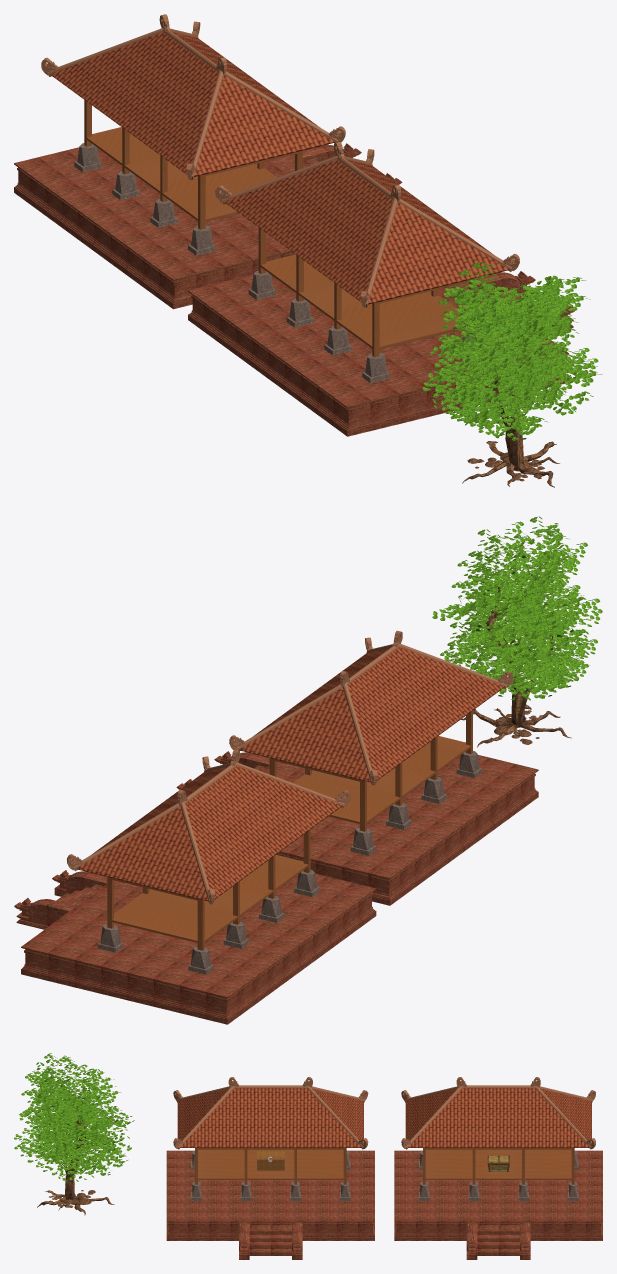
The model's file is seat1.glb.
3 renders of one model, top to bottom at view 1: azimuth 30°, elevation 25°; view 2: azimuth 150°, elevation 25°; view 3: azimuth 270°, elevation 25°, orthographic. The views are drawn at different scales.
Parts seen in each view (by area): view 1: seat1; view 2: seat1; view 3: seat1.
Part boxes in pixels (bbox=[...]): seat1: bbox=[14, 14, 602, 487]; seat1: bbox=[14, 516, 602, 1024]; seat1: bbox=[14, 1053, 602, 1259].
Bounding box in the file's own units: 1017 × 707 × 2770.
Materials: 12 (10 with a texture image).
